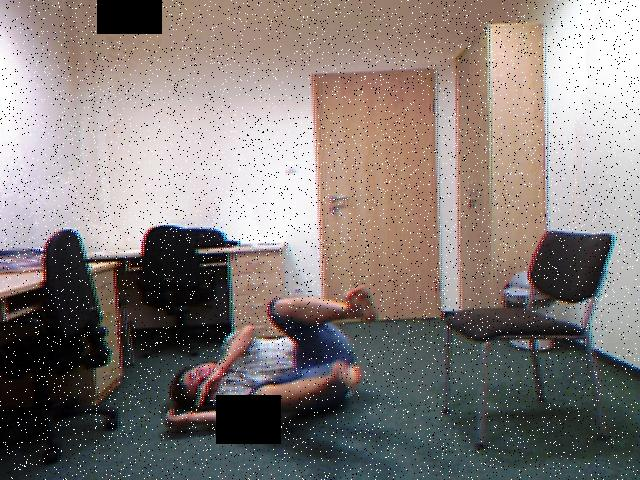fall: (143, 269, 396, 455)
